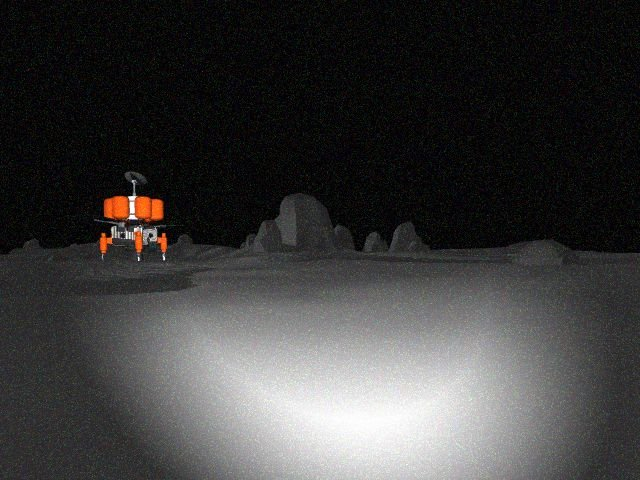homebase: (74, 169, 187, 264)
